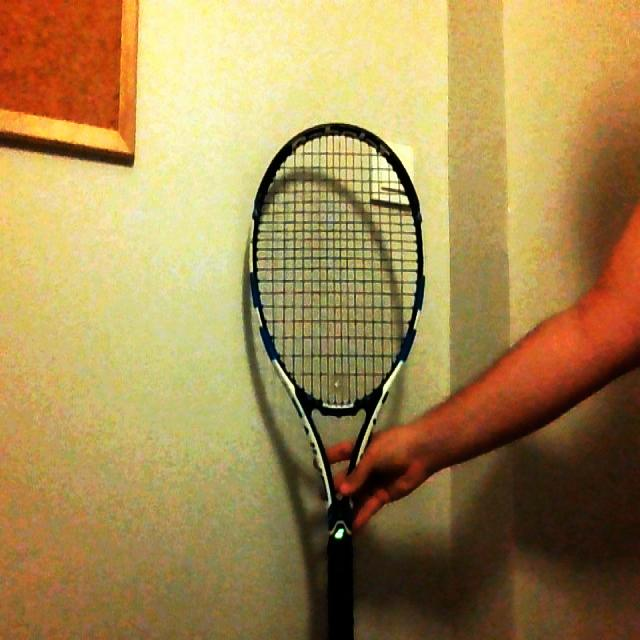TennisRacket: (249, 123, 426, 640)
